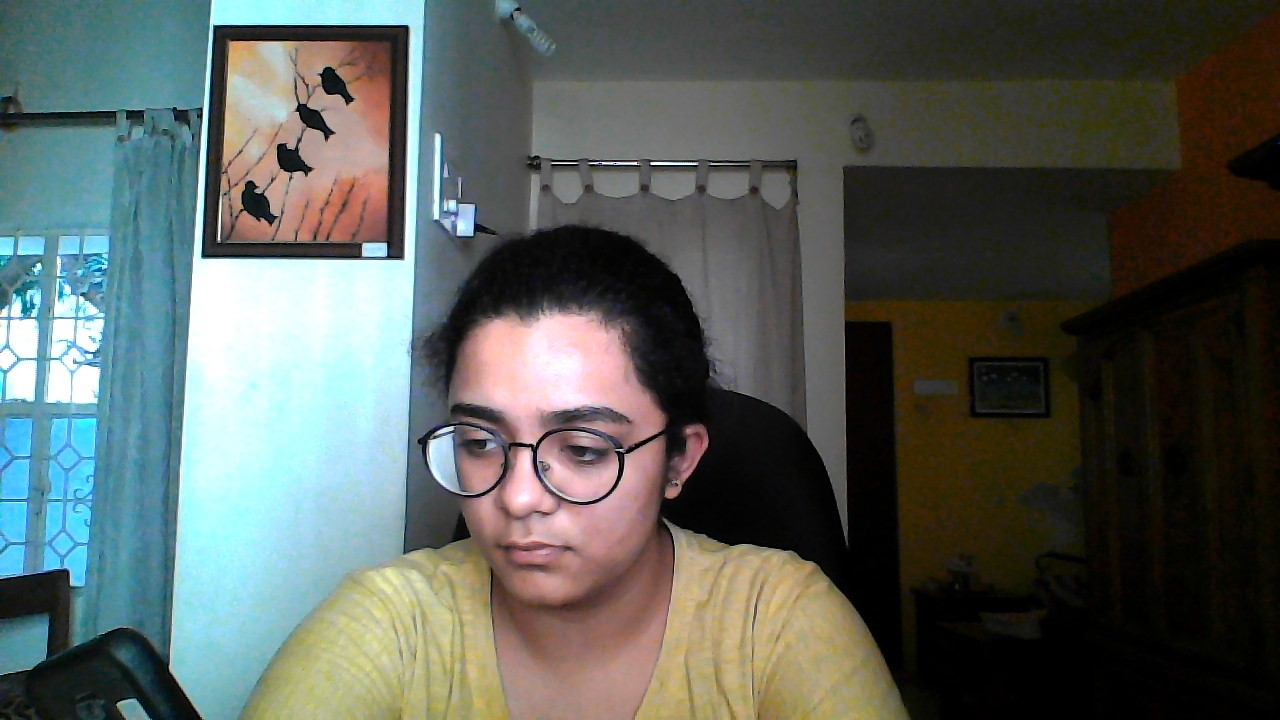person: (427, 233, 764, 682)
